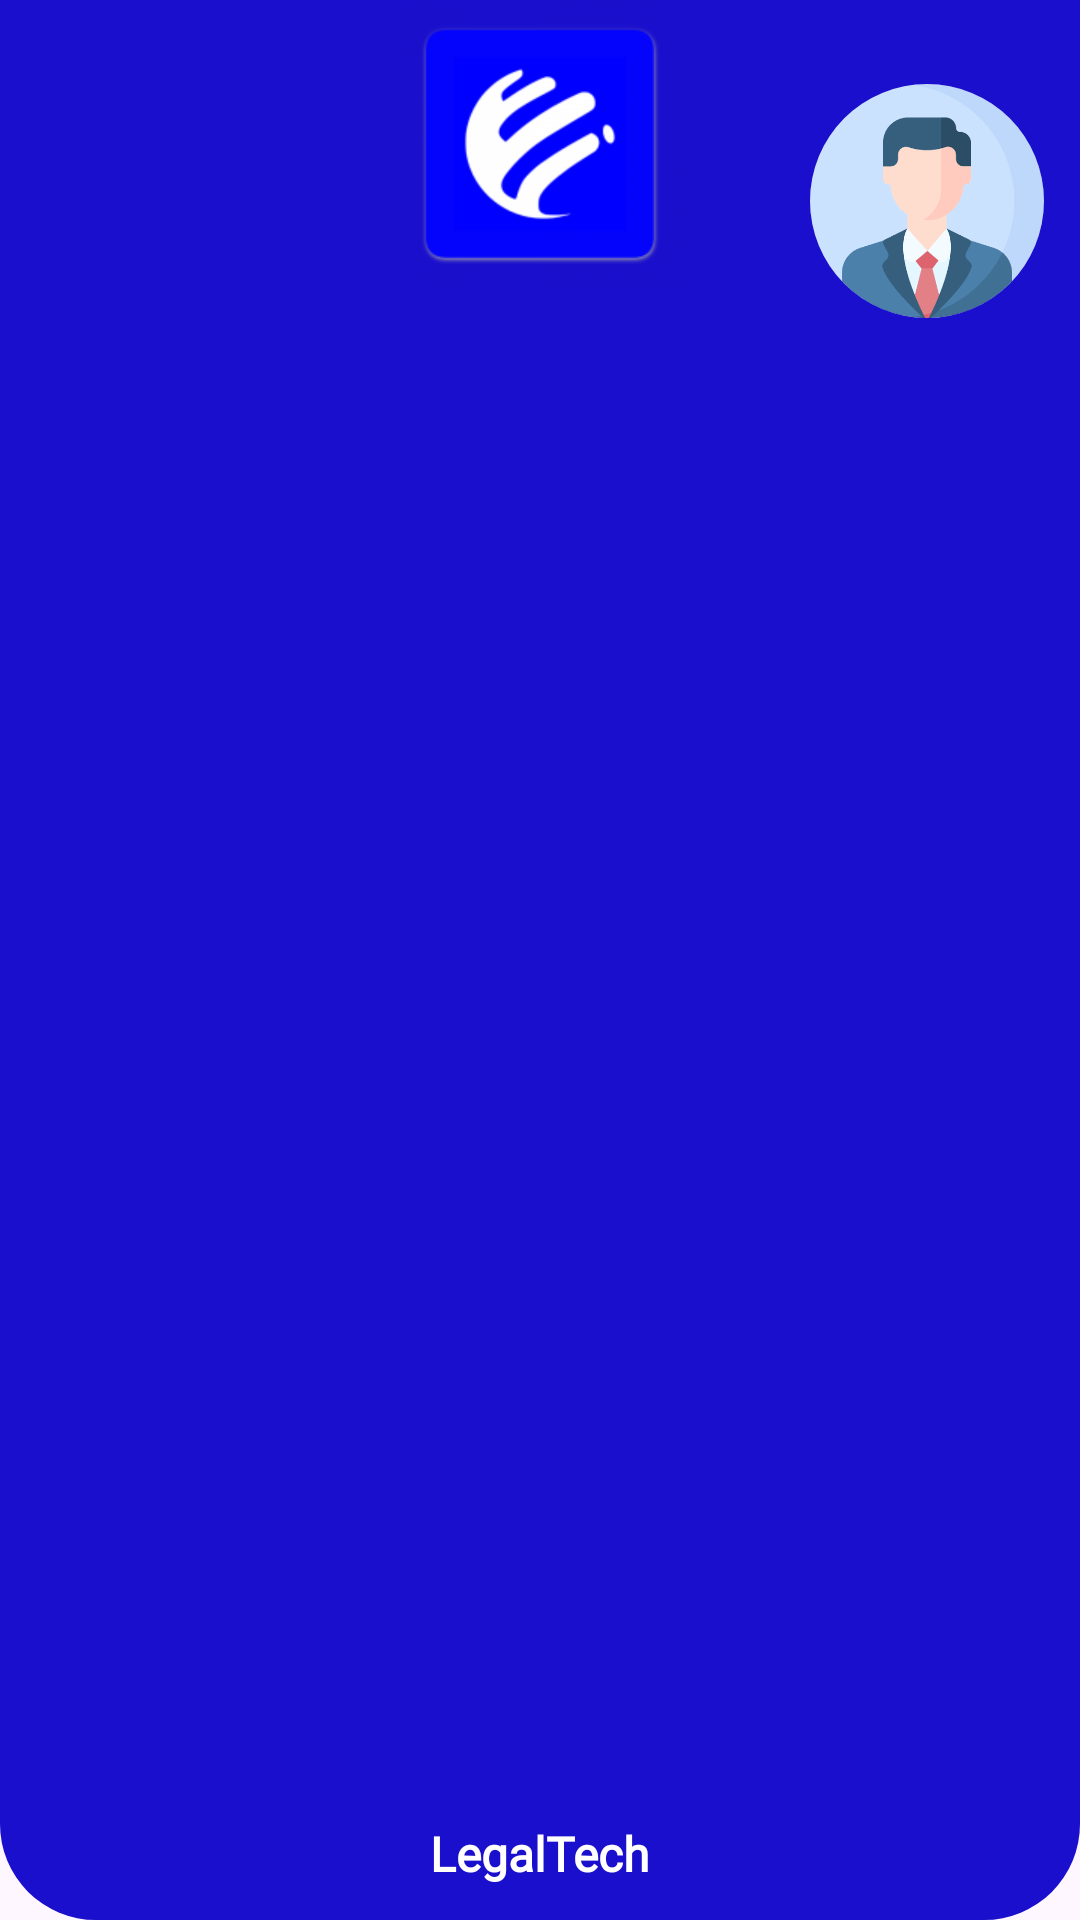

Named icons in this screenshot (1080*1920) and their bounding boxes, (x1, y1, x2, y2):
Profile photo: (810, 84, 1044, 318)
